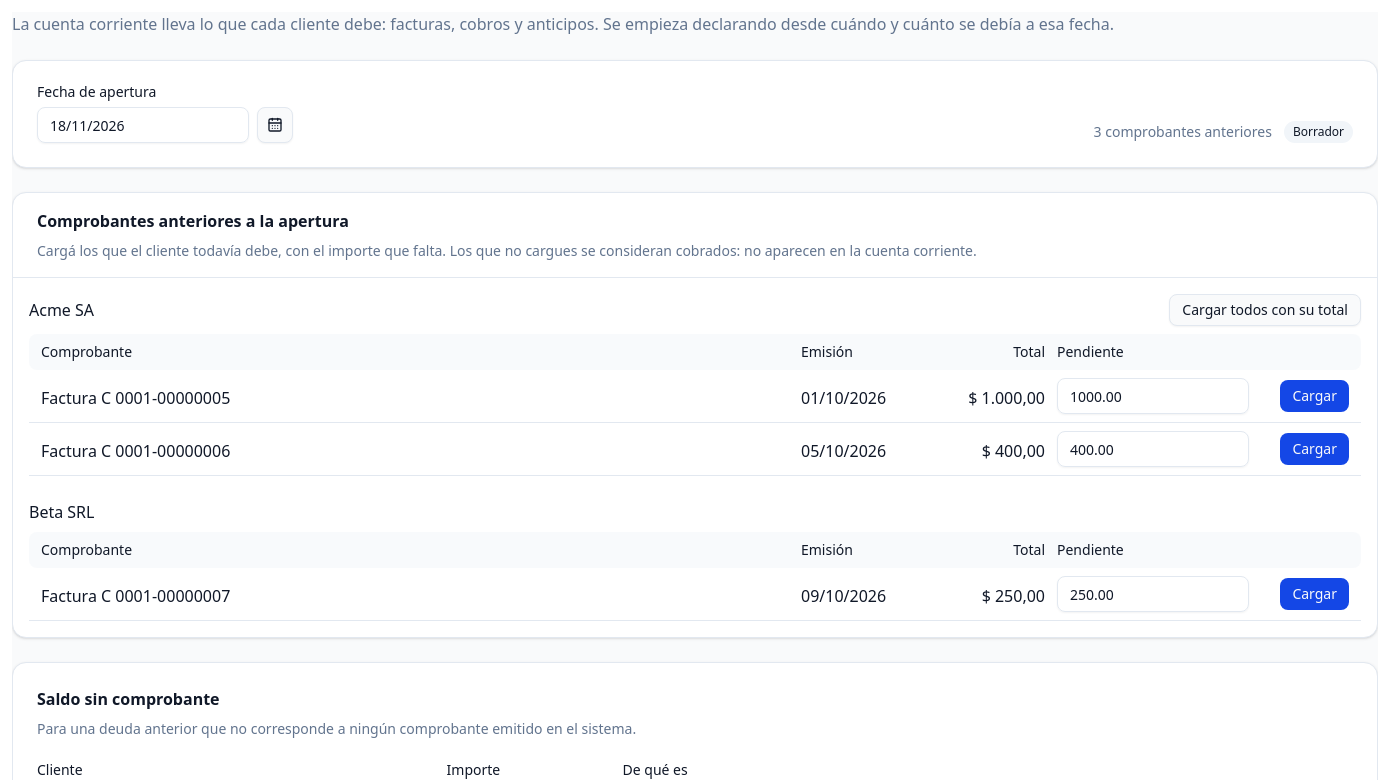
Test: Apertura de la cuenta corriente › borrador › un doble click al cargar un comprobante lo manda una sola vez y mientras tanto todo queda deshabilitado
Later steps or results of the test are not shown.
Expected: the heading "Beta SRL" is shown, [29,500,94,524]
Click the button with aria-label "Cargar Factura C 0001-00000007" at point(1315, 594), box [1280,578,1349,610]
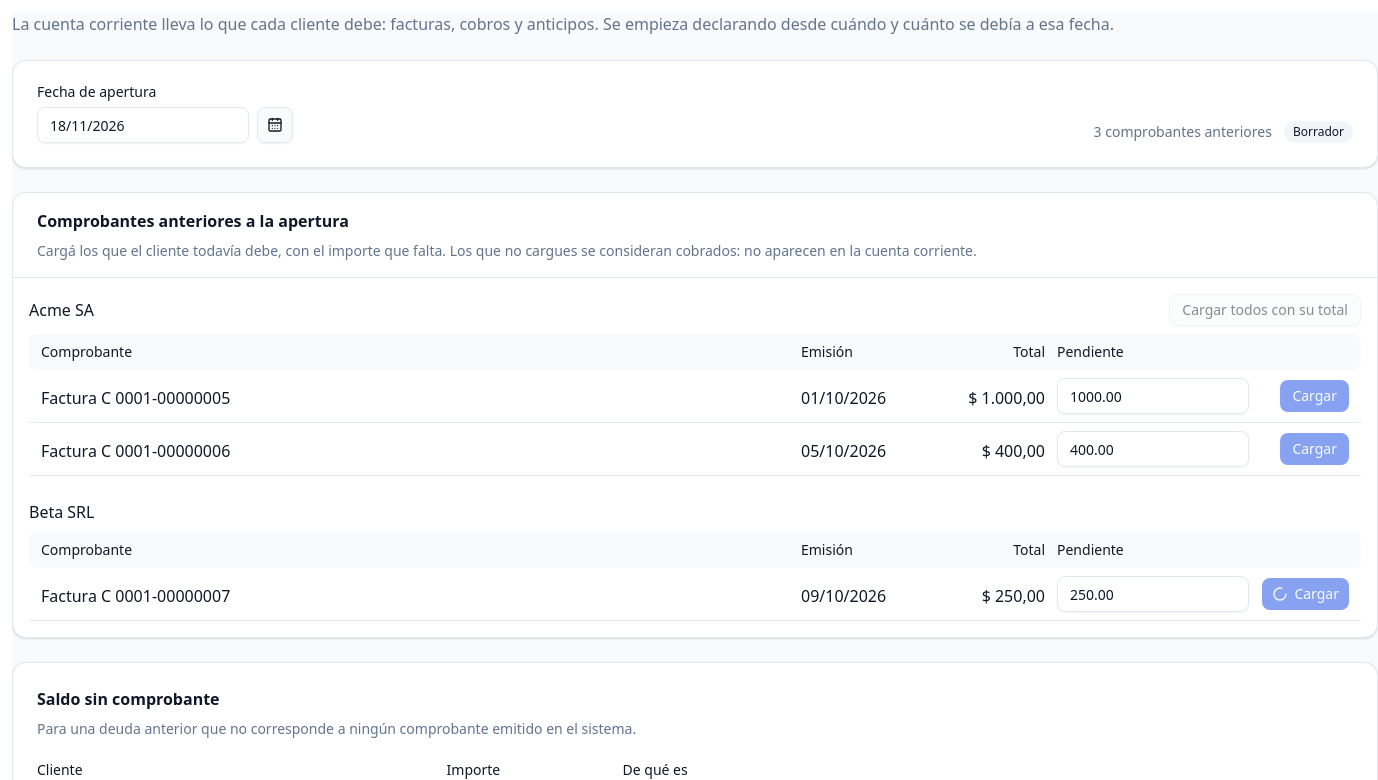
Double-click the button with aria-label "Cargar Factura C 0001-00000007" at point(1306, 594), box [1262,578,1349,610]
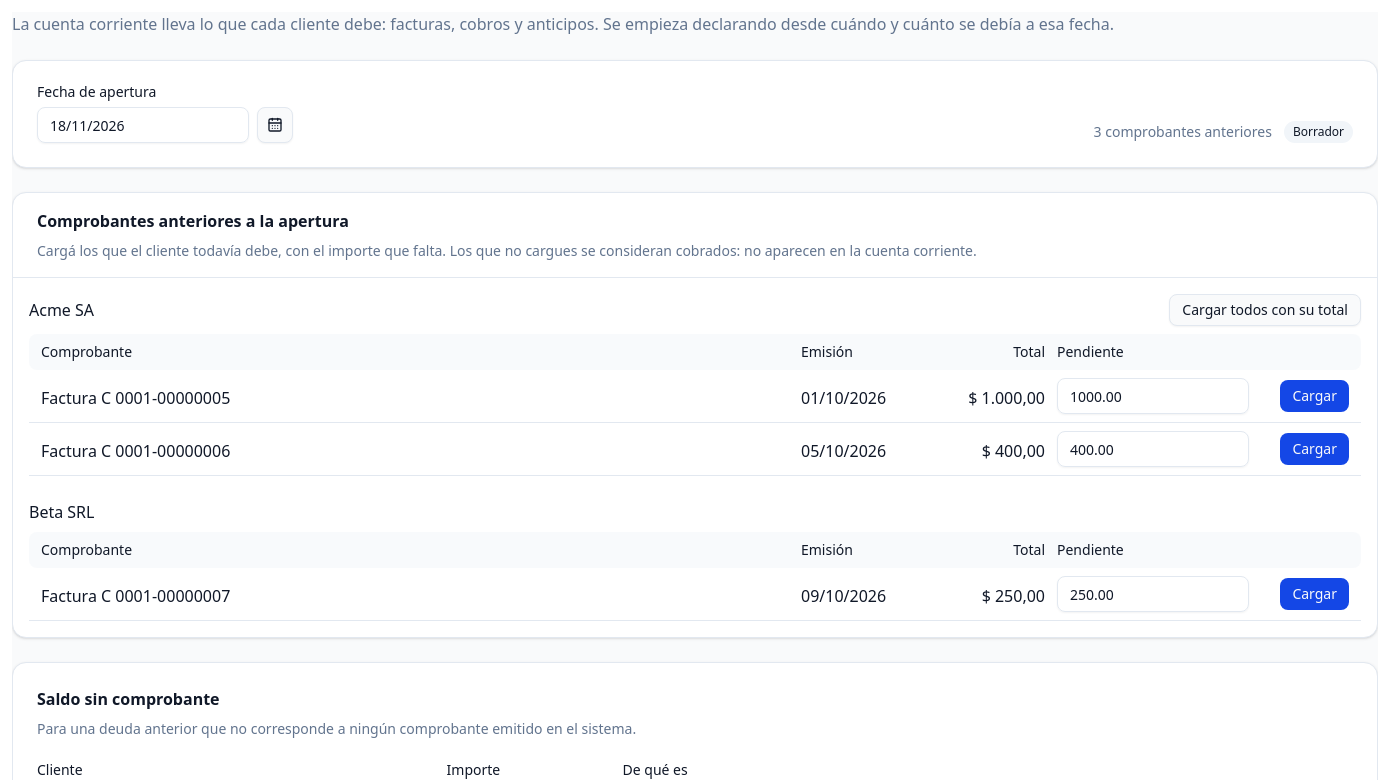
Expected: the message is gone
